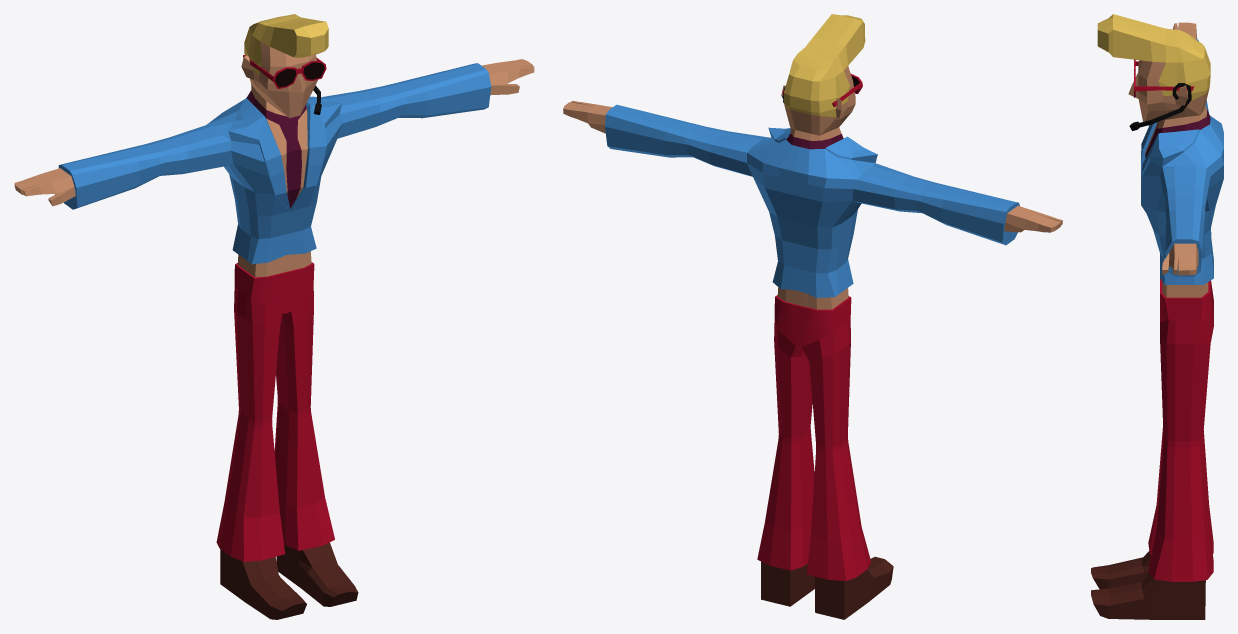
File: Agent.FBX
The picture shows the model from 3 angles, left to right: view 1: azimuth 30°, elevation 25°; view 2: azimuth 150°, elevation 25°; view 3: azimuth 270°, elevation 25°; orthographic projection. The views are drawn at different scales.
Parts seen in each view (by area): view 1: Body, Glasses; view 2: Body; view 3: Body, Earpiece, Glasses.
Boxes of the visible parts, bbox=[...] form: Body: bbox=[14, 14, 534, 619]; Glasses: bbox=[243, 55, 326, 88]; Body: bbox=[563, 14, 1062, 619]; Body: bbox=[1091, 14, 1223, 619]; Earpiece: bbox=[1129, 83, 1191, 130]; Glasses: bbox=[1134, 59, 1194, 97].
Bounding box in the file's own units: 160 × 174 × 36.16.
